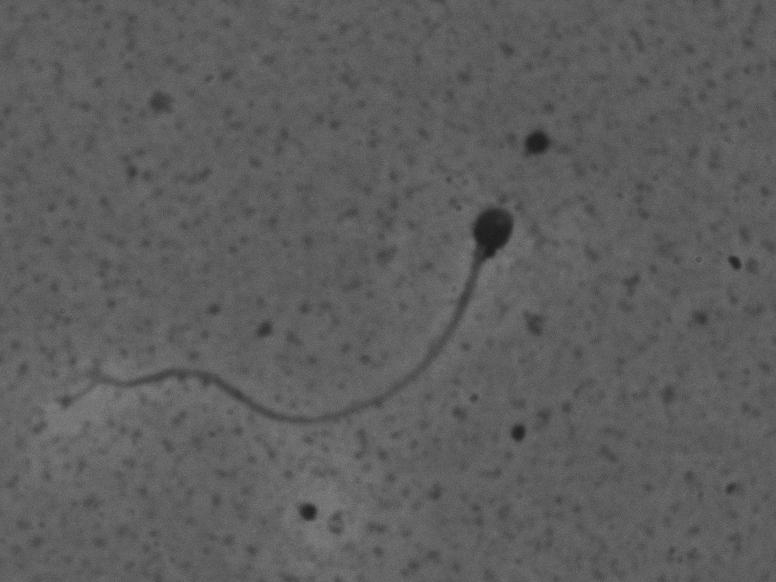Abnormal: (69, 190, 533, 436)
